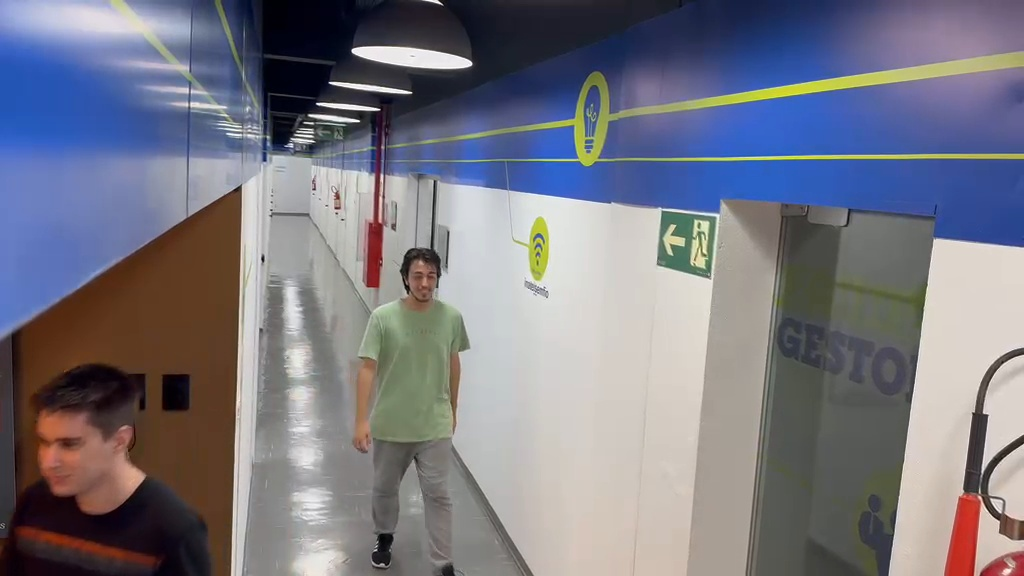person: (4, 362, 213, 574), (353, 246, 471, 576)
